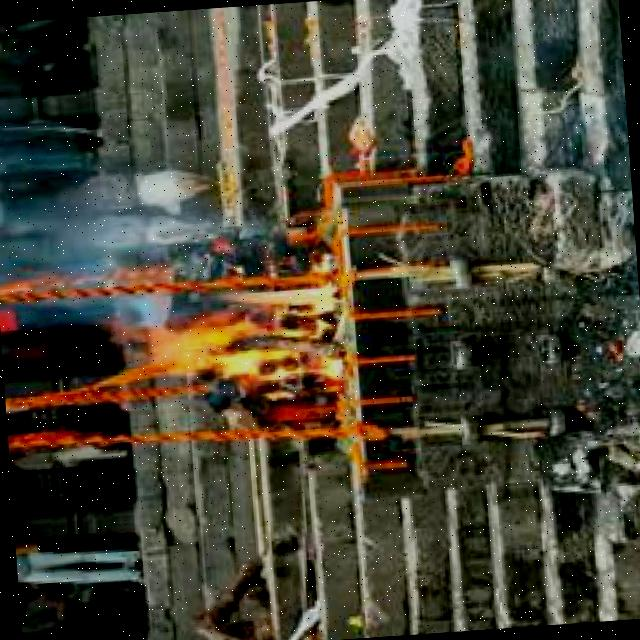fire: (105, 275, 344, 393)
